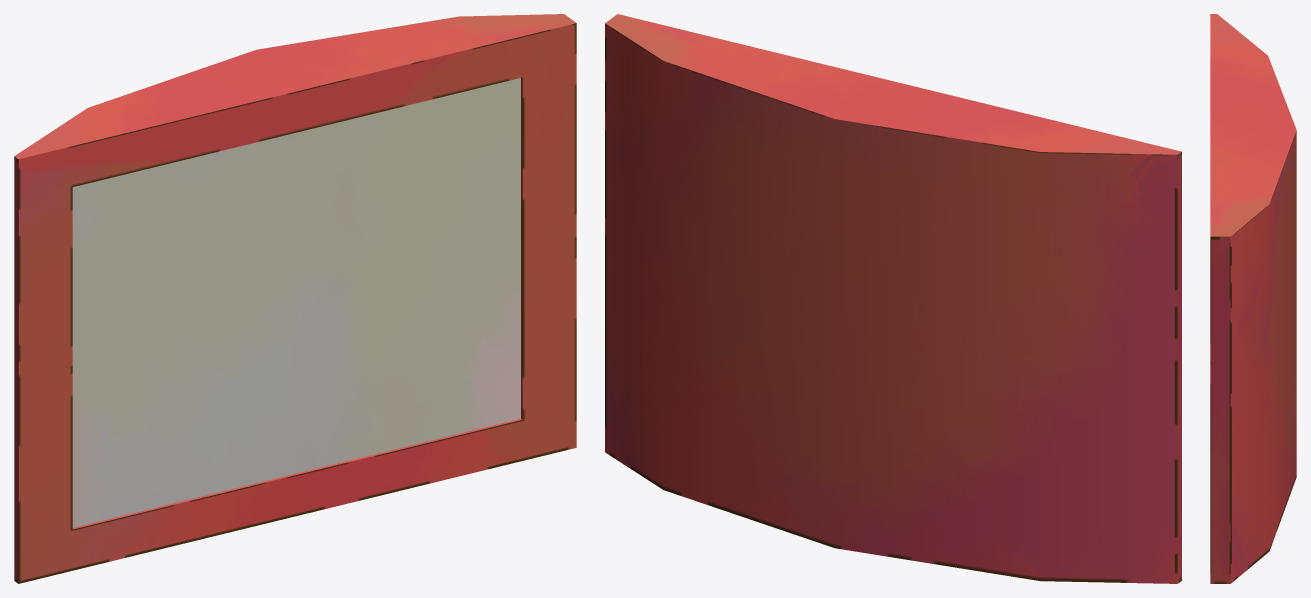
Rendered from Screen.fbx.
3 views of the same model, side by side, from view 1: azimuth 30°, elevation 25°; view 2: azimuth 150°, elevation 25°; view 3: azimuth 270°, elevation 25° (orthographic). The views are drawn at different scales.
Parts seen in each view (by area): view 1: customer_Order_Screen1; view 2: customer_Order_Screen1; view 3: customer_Order_Screen1.
Boxes of the visible parts, x1,y1,x2,y2 form: customer_Order_Screen1: (14,14,576,583); customer_Order_Screen1: (605,14,1181,583); customer_Order_Screen1: (1210,14,1296,583).
Bounding box in the file's own units: 105 × 76.2 × 17.18.
Materials: 1 (1 with a texture image).
